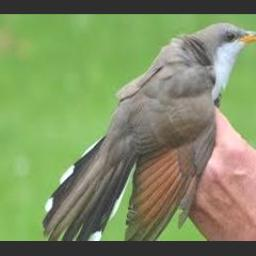Cuckoo: (42, 22, 256, 240)
